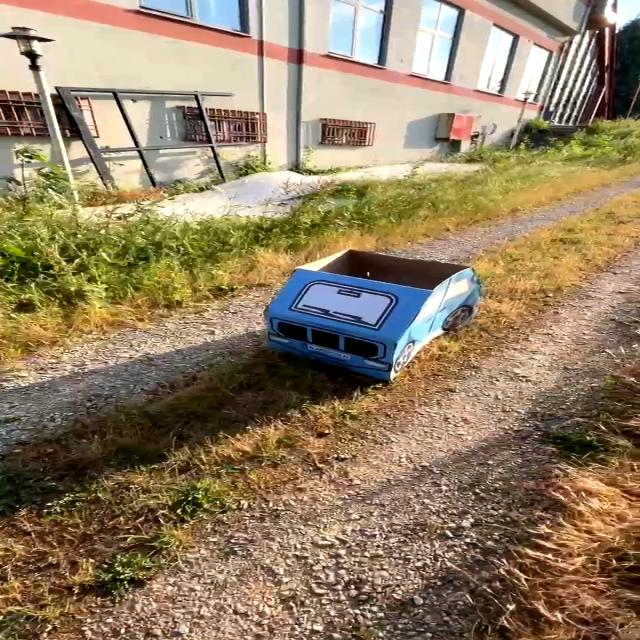blue_car: (158, 210, 515, 418)
